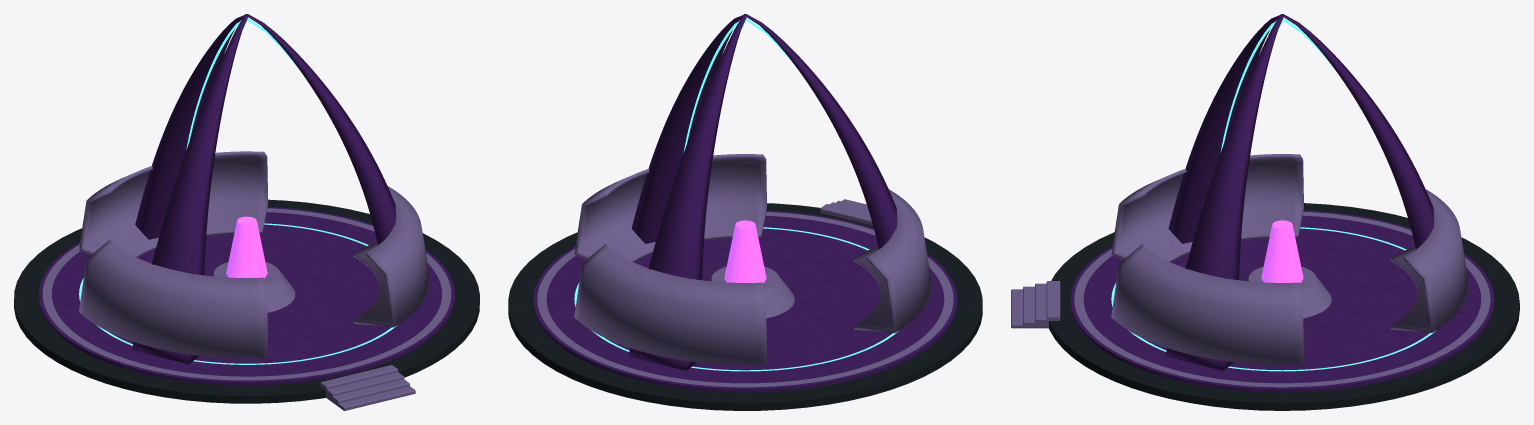
File: Covenant.gltf
3 renders of one model, left to right at view 1: azimuth 30°, elevation 25°; view 2: azimuth 150°, elevation 25°; view 3: azimuth 270°, elevation 25°, orthographic.
Visible parts, largest first — view 1: Covenant_Purpura, Covenant_Covenant_plata, Covenant_Acero_oscuro, Covenant_Luz_violeta, Covenant_Luz_cian; view 2: Covenant_Purpura, Covenant_Covenant_plata, Covenant_Acero_oscuro, Covenant_Luz_violeta, Covenant_Luz_cian; view 3: Covenant_Purpura, Covenant_Covenant_plata, Covenant_Acero_oscuro, Covenant_Luz_violeta, Covenant_Luz_cian.
Part boxes in pixels (x1,y1,x2,y2): Covenant_Purpura: [39, 14, 454, 385]; Covenant_Covenant_plata: [42, 151, 451, 410]; Covenant_Acero_oscuro: [14, 199, 479, 403]; Covenant_Luz_violeta: [226, 216, 267, 277]; Covenant_Luz_cian: [79, 18, 396, 364]; Covenant_Purpura: [533, 14, 957, 392]; Covenant_Covenant_plata: [537, 154, 953, 387]; Covenant_Acero_oscuro: [508, 203, 982, 410]; Covenant_Luz_violeta: [724, 220, 766, 282]; Covenant_Luz_cian: [574, 18, 898, 371]; Covenant_Purpura: [1070, 14, 1494, 392]; Covenant_Covenant_plata: [1011, 154, 1490, 387]; Covenant_Acero_oscuro: [1049, 203, 1519, 410]; Covenant_Luz_violeta: [1261, 220, 1303, 282]; Covenant_Luz_cian: [1111, 18, 1436, 371].
Size of the model in its own units: 56 by 38.5 by 60.
5 materials, 5 textured.
